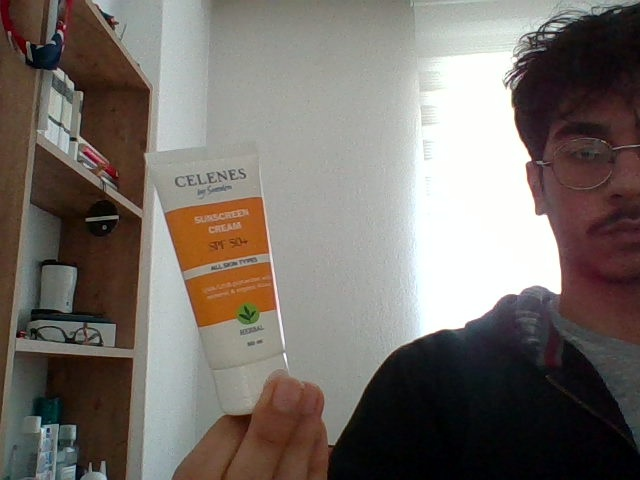CelenesSunCream: (139, 139, 287, 359)
